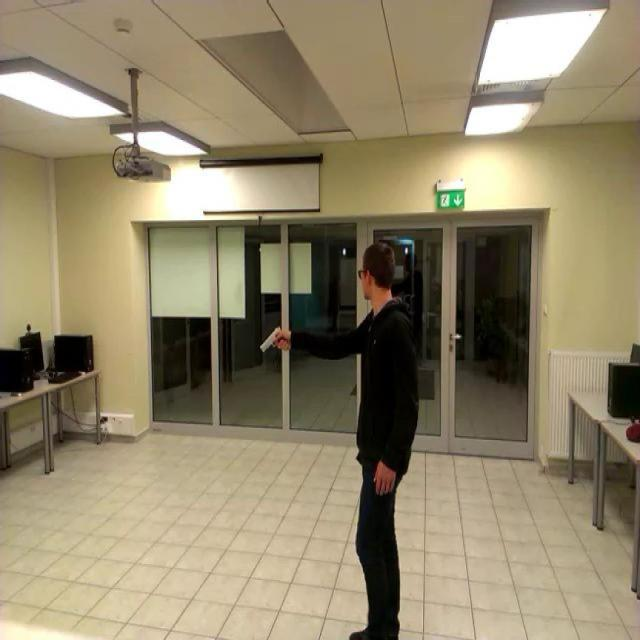pistol: (259, 324, 287, 352)
